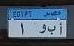1: (20, 22, 25, 36)
alif: (58, 21, 64, 36)
baa: (47, 24, 56, 35)
waw: (38, 23, 47, 35)
